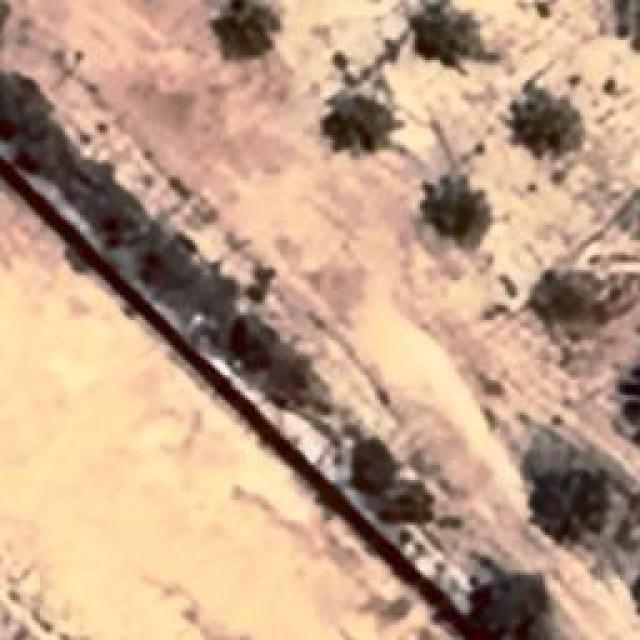PalmTree: (534, 474, 614, 544), (208, 2, 288, 70), (316, 82, 394, 150), (408, 6, 486, 72), (420, 171, 485, 239), (518, 95, 582, 155), (527, 268, 585, 322), (612, 368, 640, 438)
